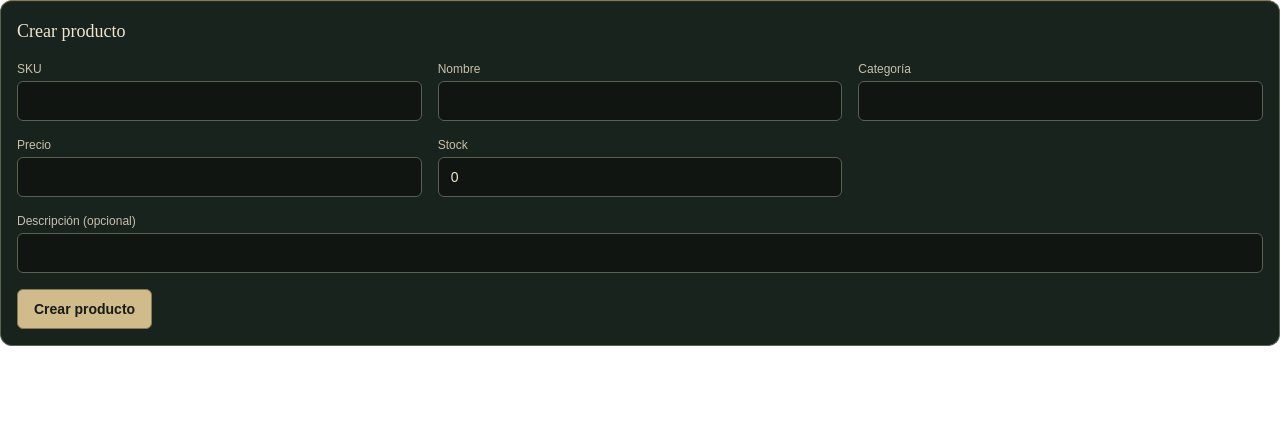
still shows server-only errors such as a duplicate SKU
Type "SKU-CLIENT-1" into the field labelled "SKU" at x=219, y=101, box left=17, top=81, right=422, bottom=121
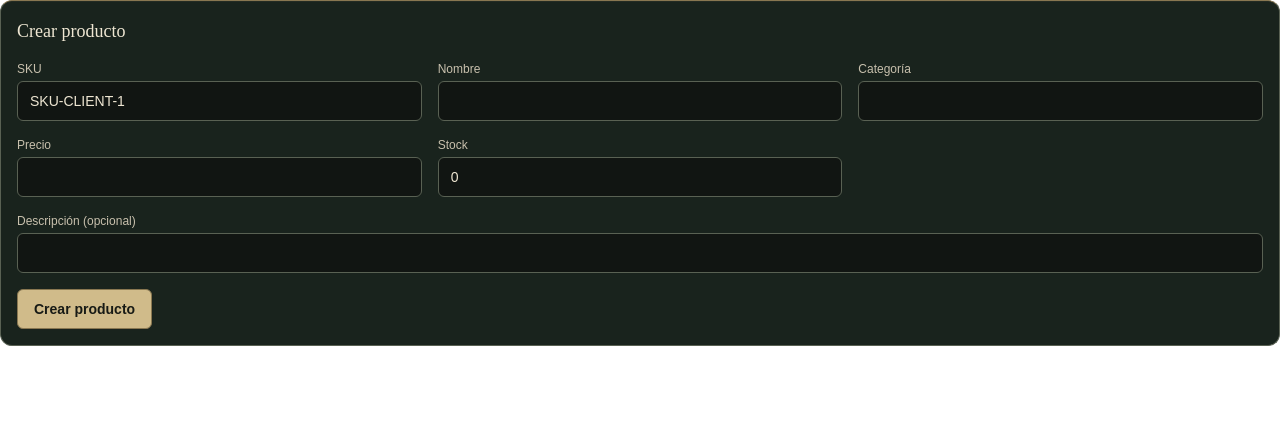
Type "Producto" into the field labelled "Nombre" at x=640, y=101, box left=438, top=81, right=842, bottom=121
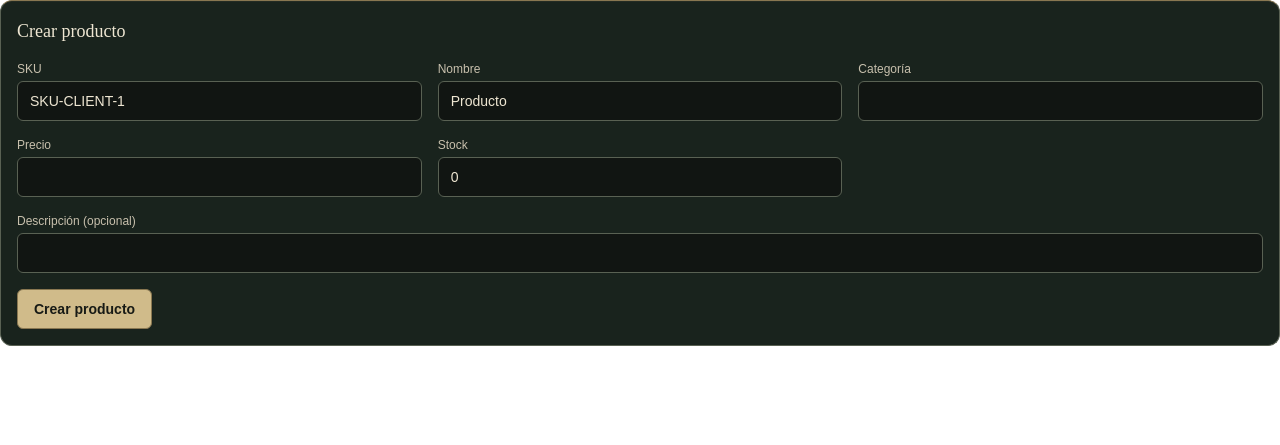
Type "Papelería" into the field labelled "Categoría" at x=1061, y=101, box left=858, top=81, right=1263, bottom=121
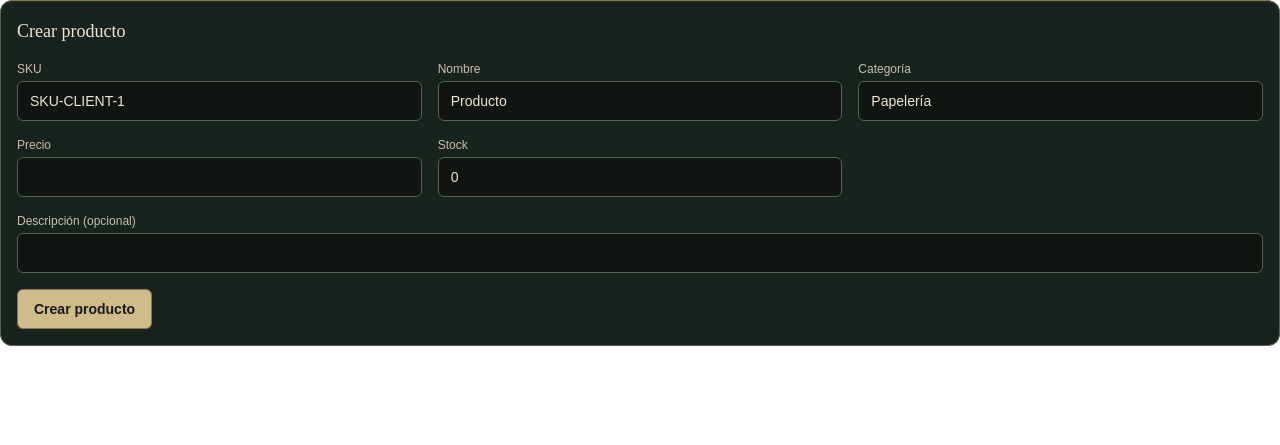
Type "10.50" into the field labelled "Precio" at x=219, y=177, box left=17, top=157, right=422, bottom=197
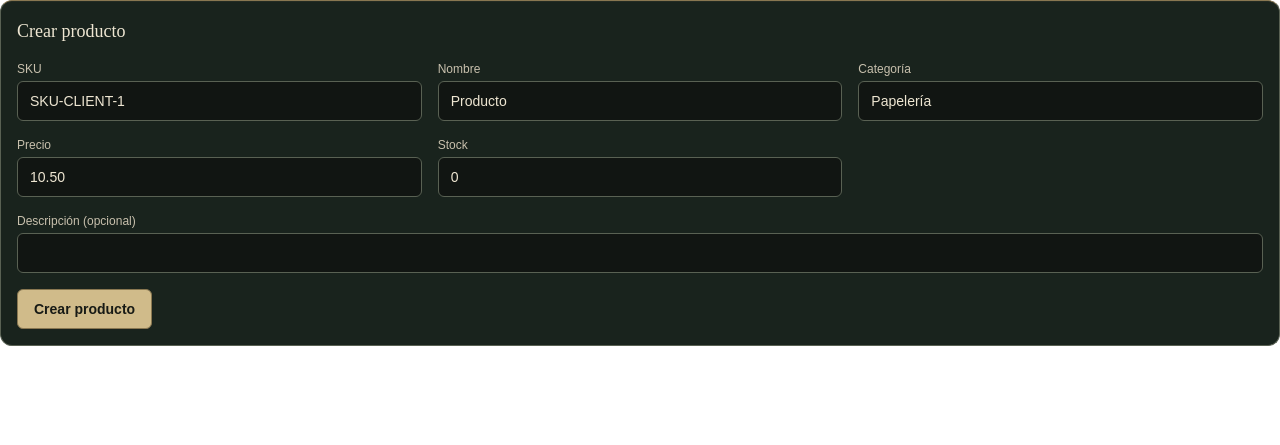
Replace the text in the field labelled "Stock" with "3" at x=640, y=177, box left=438, top=157, right=842, bottom=197
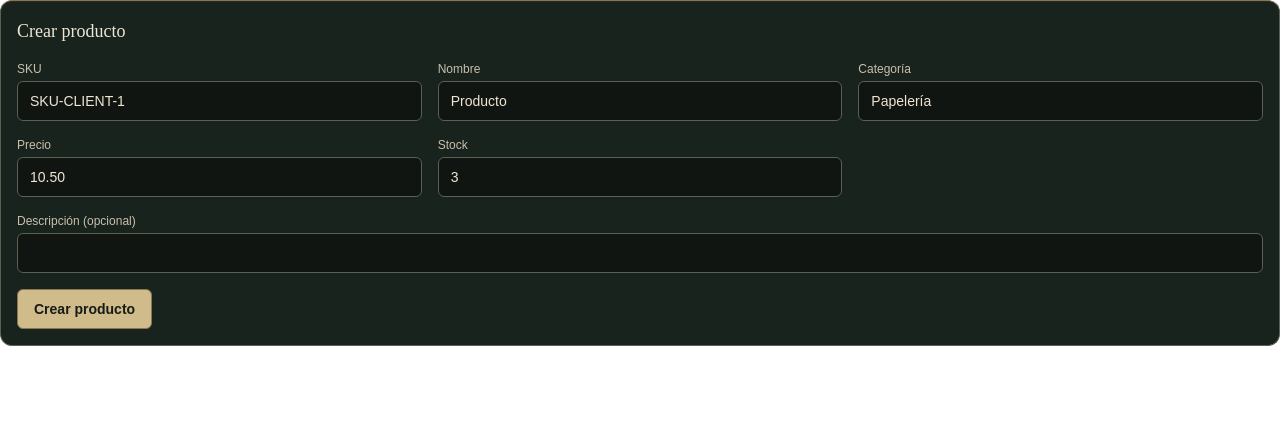
Submit the form, box left=17, top=61, right=1263, bottom=329
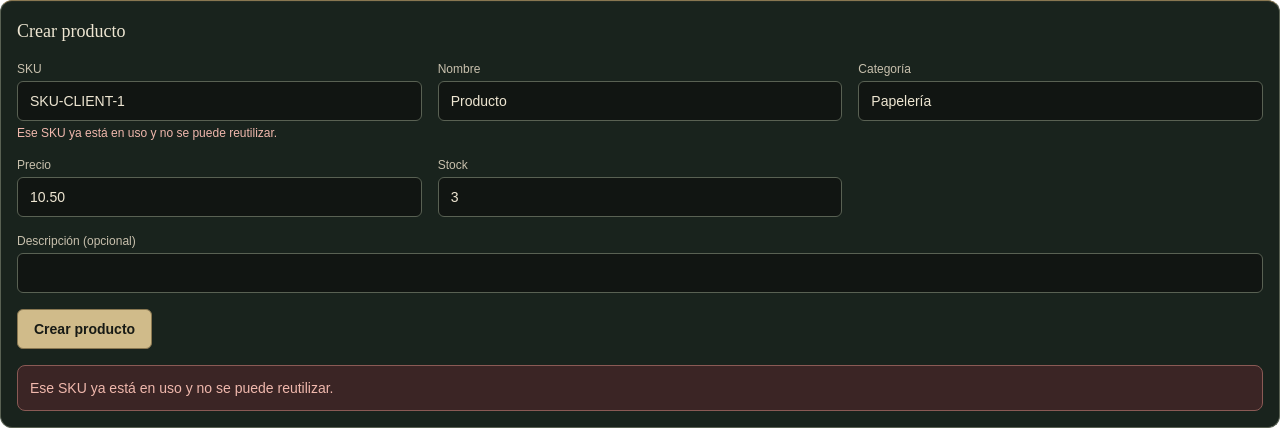
expect the text "Ese SKU ya está en uso y no se puede reutilizar." is shown: met, box left=17, top=126, right=277, bottom=140
